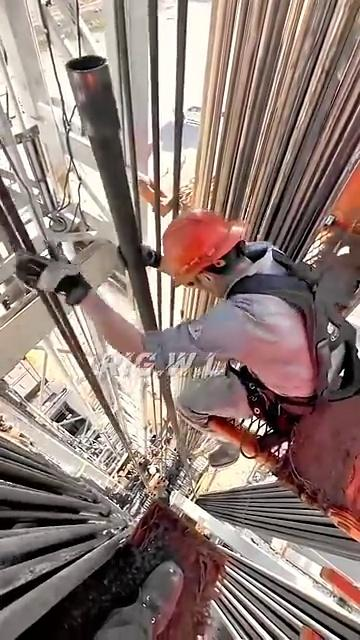gloves: (30, 253, 88, 318)
helmet: (177, 180, 227, 283)
shoes: (198, 423, 252, 473)
worker: (35, 177, 333, 508)
